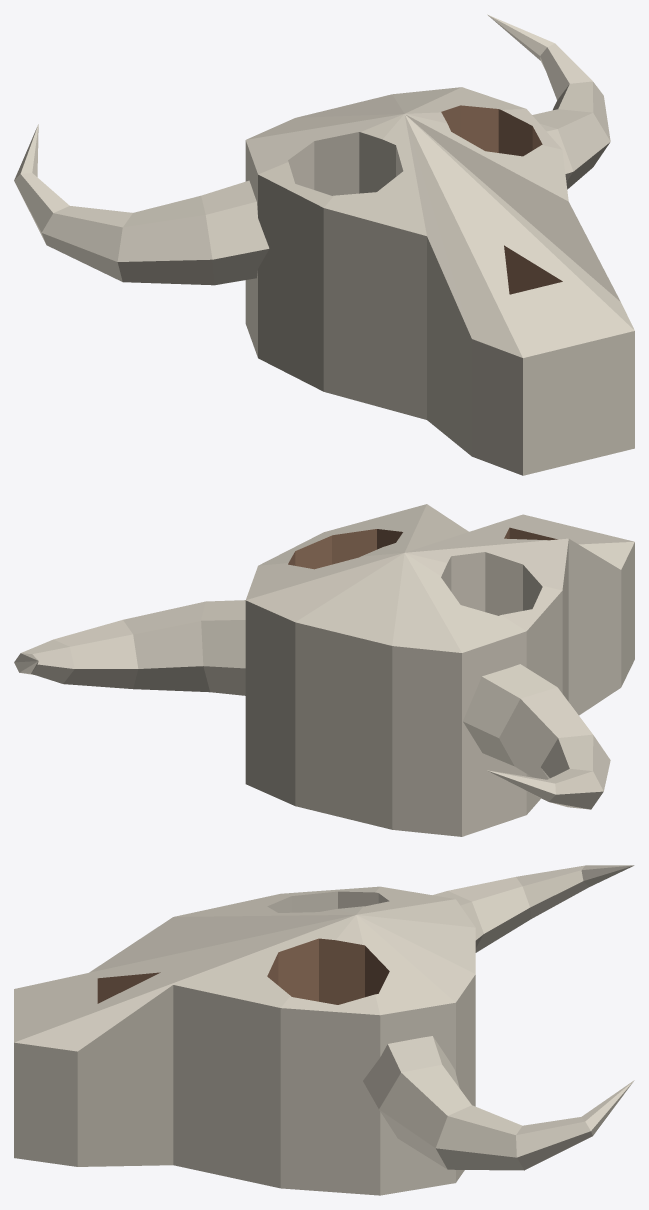
File: Kit_Skull.fbx
3 views of the same model, one above another, from view 1: azimuth 30°, elevation 25°; view 2: azimuth 150°, elevation 25°; view 3: azimuth 270°, elevation 25° (orthographic).
Visible parts, largest first — view 1: Kit_Skull; view 2: Kit_Skull; view 3: Kit_Skull.
Part boxes in pixels (<box>): Kit_Skull: <box>14,14,634,475</box>; Kit_Skull: <box>14,504,634,836</box>; Kit_Skull: <box>14,865,634,1195</box>.
Size of the model in its own units: 0.8 by 0.3 by 0.78.
